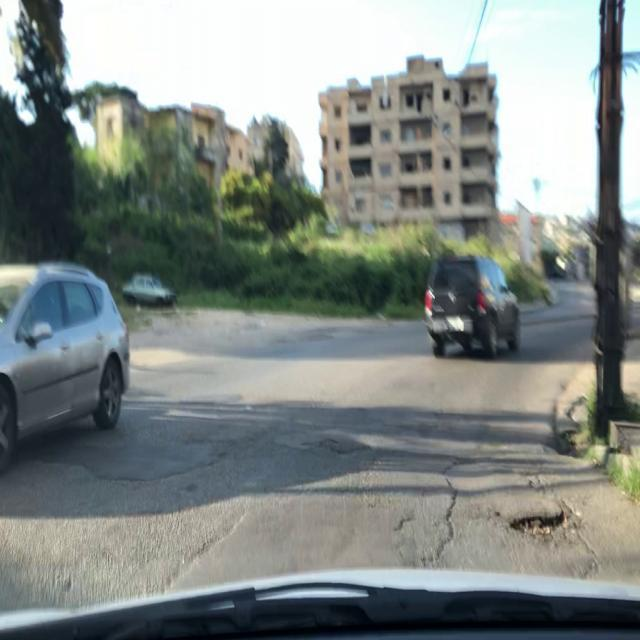Buraco: (507, 498, 588, 544)
